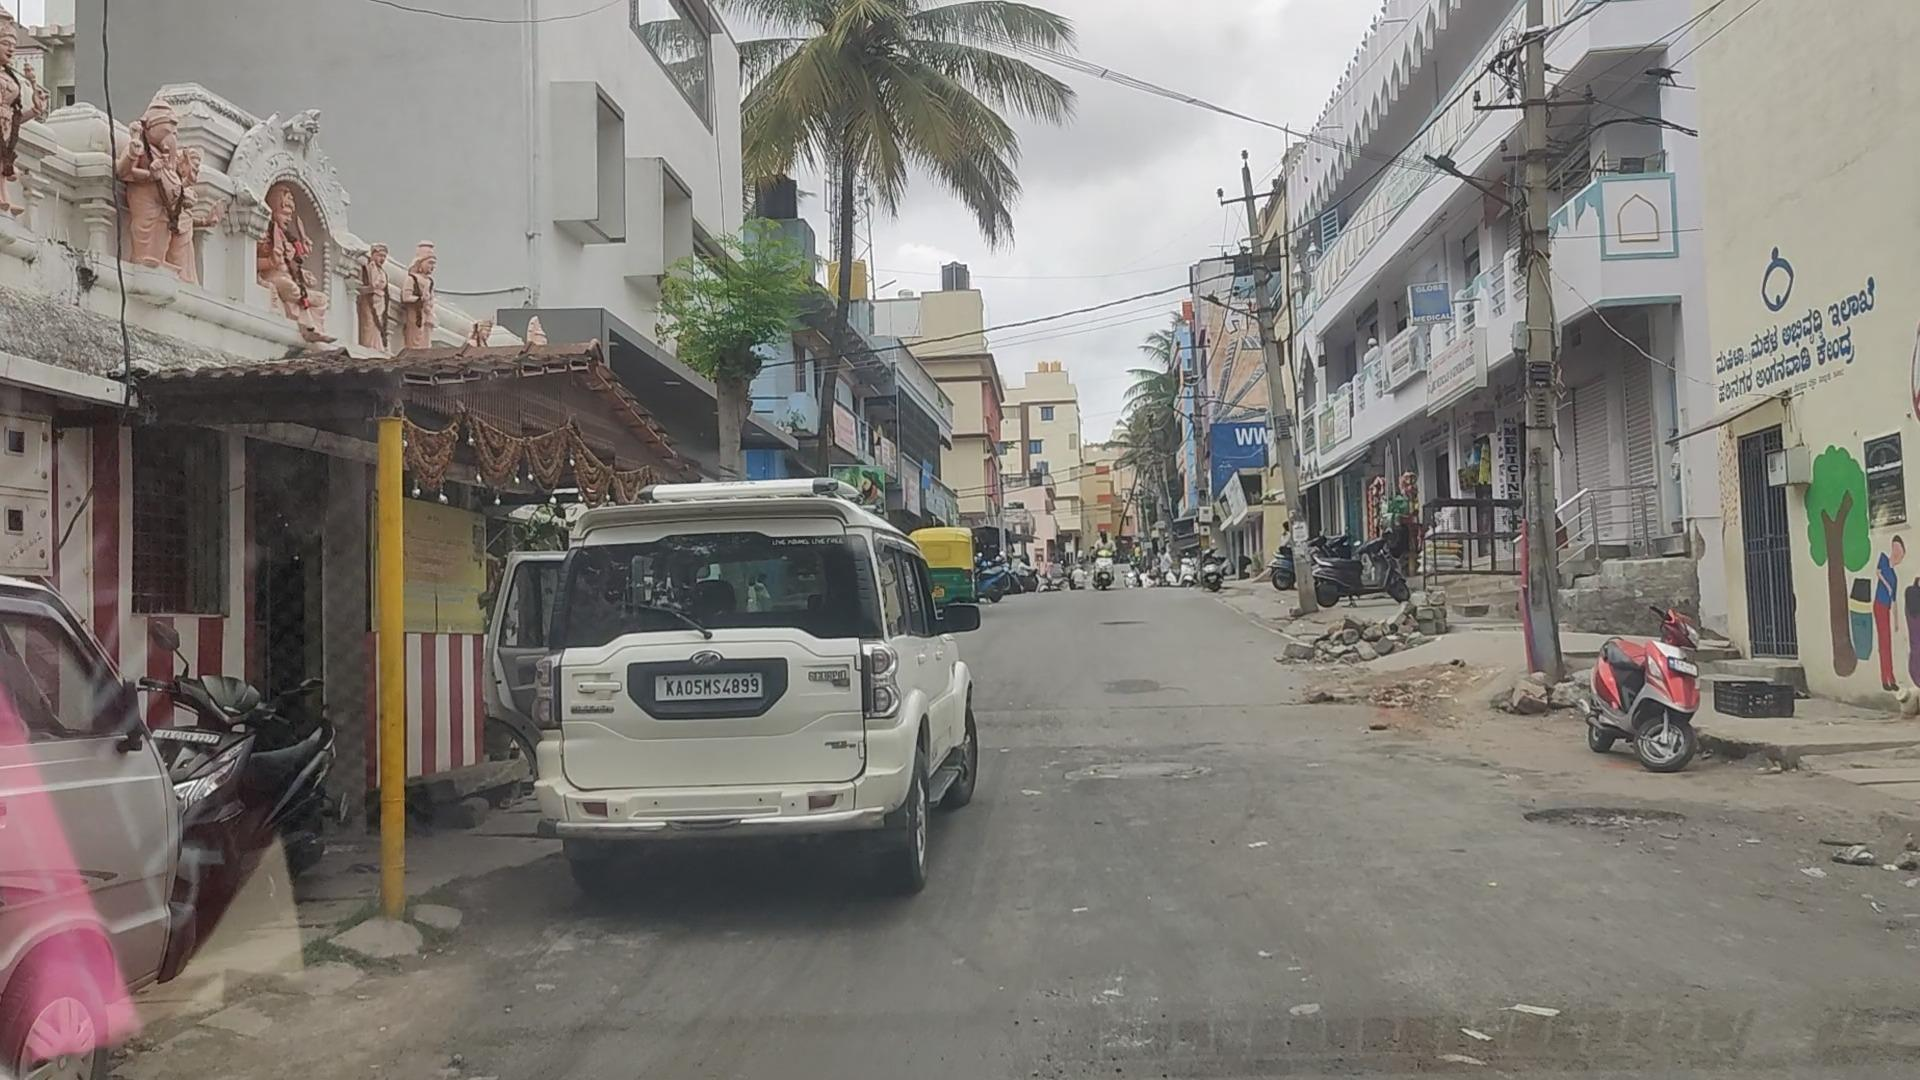RoadDamages: (1531, 778, 1688, 845), (1064, 748, 1226, 802)
